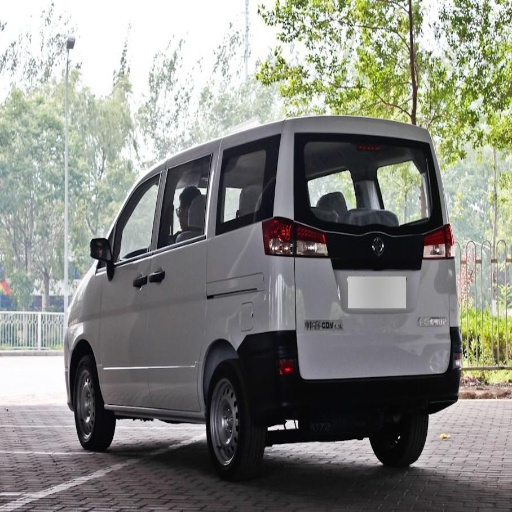back_bumper: (259, 377, 450, 432)
back_glass: (303, 136, 434, 232)
back_left_door: (153, 164, 212, 398)
trunk: (188, 238, 454, 400)
